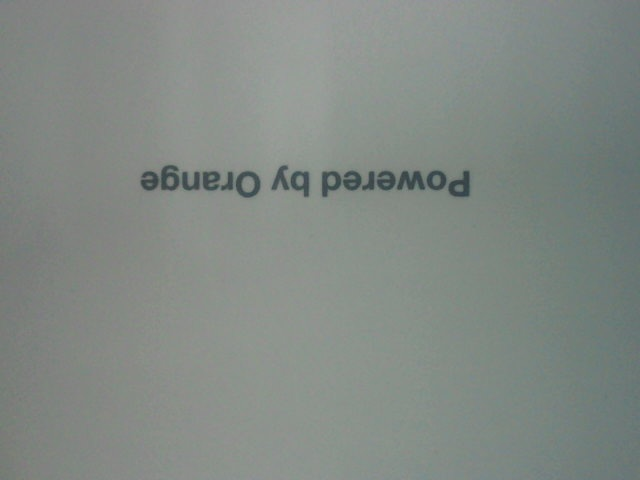AS_PowerByOrange: (129, 143, 481, 210)
